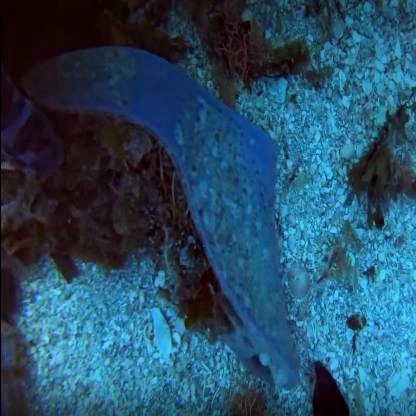misc: (100, 58, 302, 356)
